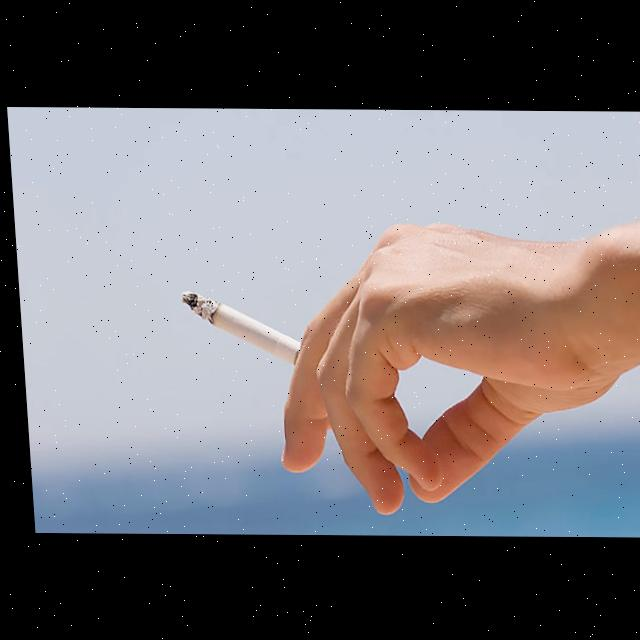cigarette: (177, 291, 299, 365)
